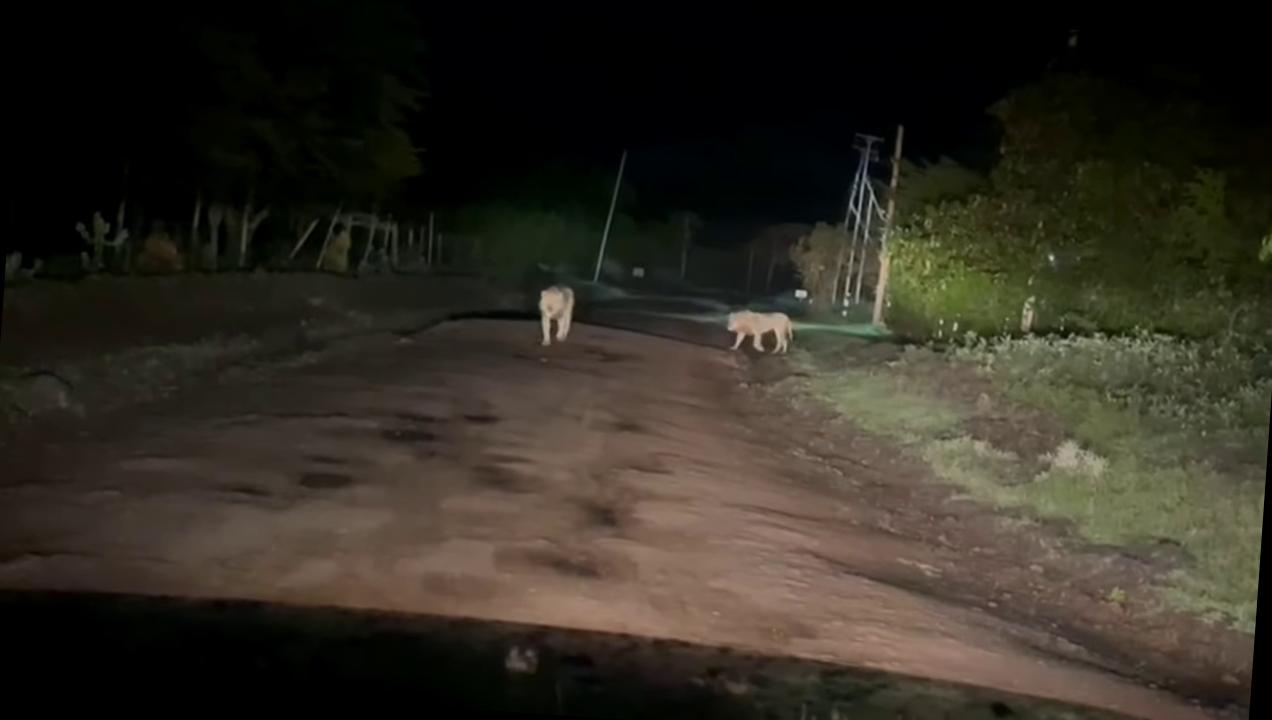lions: (500, 272, 603, 366), (711, 278, 800, 383)
